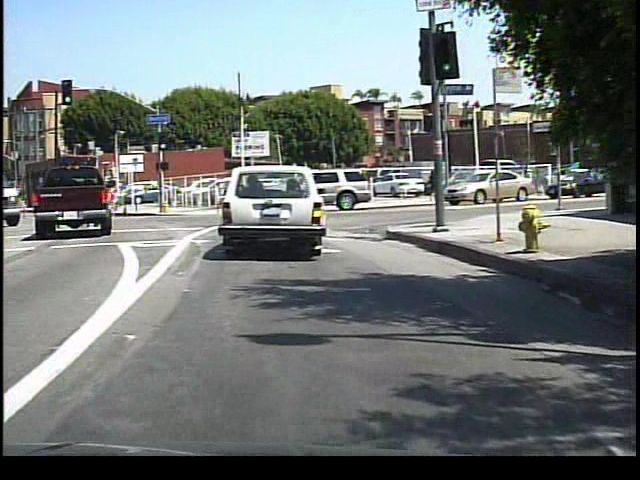person: (422, 162, 441, 204)
